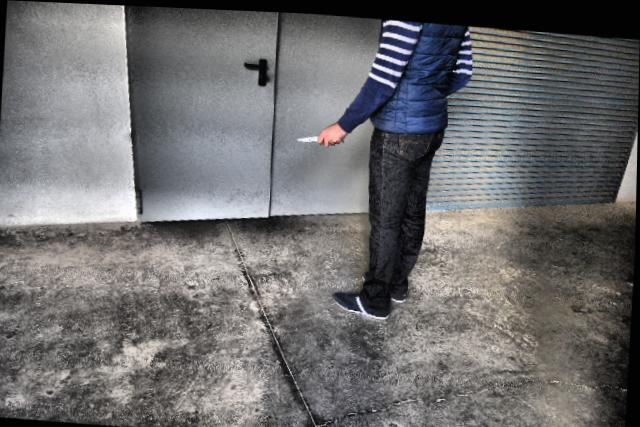knife: (295, 130, 346, 143)
